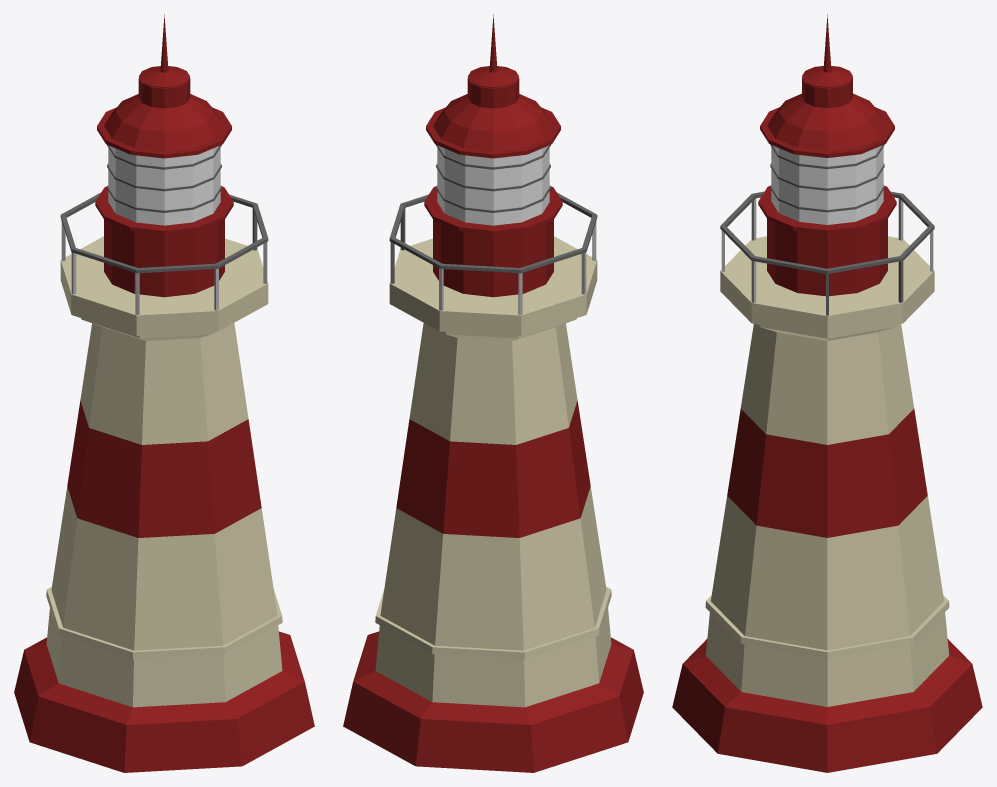
3 renders of one model, left to right at view 1: azimuth 30°, elevation 25°; view 2: azimuth 150°, elevation 25°; view 3: azimuth 270°, elevation 25°, orthographic.
Parts seen in each view (by area): view 1: Node; view 2: Node; view 3: Node.
Part boxes in pixels (x1=…): Node: x1=14, y1=14, x2=314, y2=772; Node: x1=343, y1=14, x2=643, y2=772; Node: x1=672, y1=14, x2=982, y2=772.
Size of the model in its own units: 8.62 by 21.24 by 8.62.
